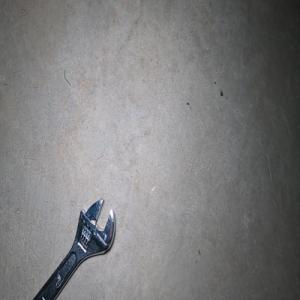Wrench: (32, 198, 115, 300)
